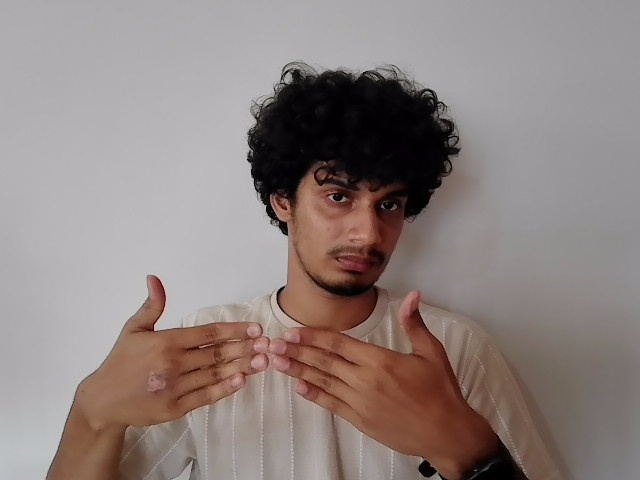family: (75, 269, 473, 463)
